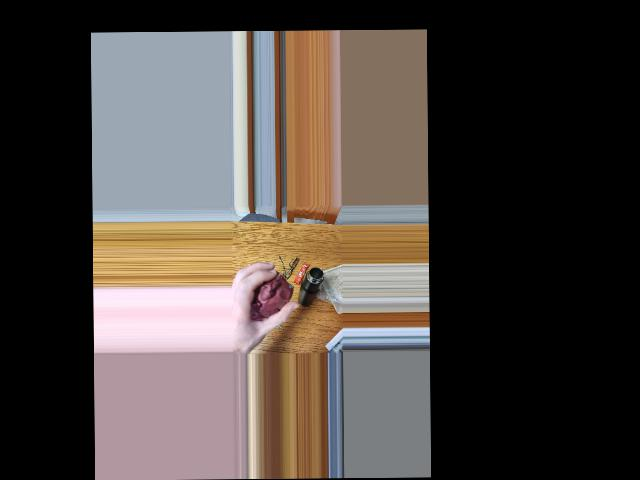onion: (250, 271, 287, 320)
